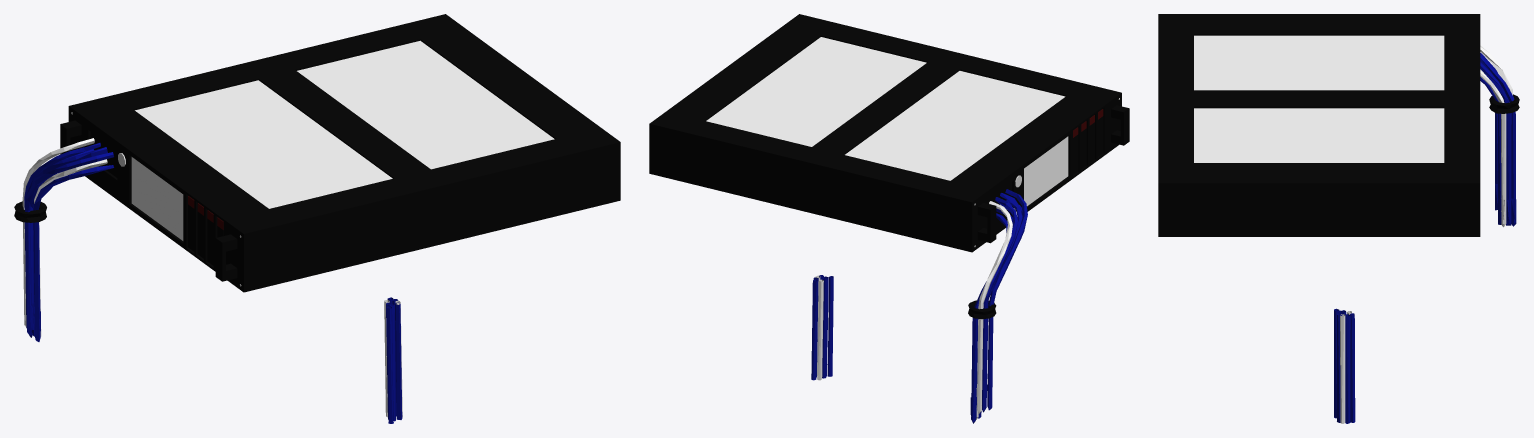
The model's file is Server-Rack-Single_01.fbx.
3 renders of one model, left to right at view 1: azimuth 30°, elevation 25°; view 2: azimuth 150°, elevation 25°; view 3: azimuth 270°, elevation 25°, orthographic. The views are drawn at different scales.
Visible parts, largest first — view 1: Server-Rack-Single_01, Server-Rack-ExtraCables_02; view 2: Server-Rack-Single_01, Server-Rack-ExtraCables_02; view 3: Server-Rack-Single_01, Server-Rack-ExtraCables_02.
Boxes of the visible parts, left/top/right/bottom form: Server-Rack-Single_01: left=14, top=14, right=620, bottom=341; Server-Rack-ExtraCables_02: left=384, top=297, right=402, bottom=423; Server-Rack-Single_01: left=649, top=14, right=1129, bottom=423; Server-Rack-ExtraCables_02: left=811, top=275, right=833, bottom=380; Server-Rack-Single_01: left=1158, top=14, right=1519, bottom=236; Server-Rack-ExtraCables_02: left=1334, top=308, right=1355, bottom=423.
Size of the model in its own units: 0.6624 by 0.4856 by 0.5419.
